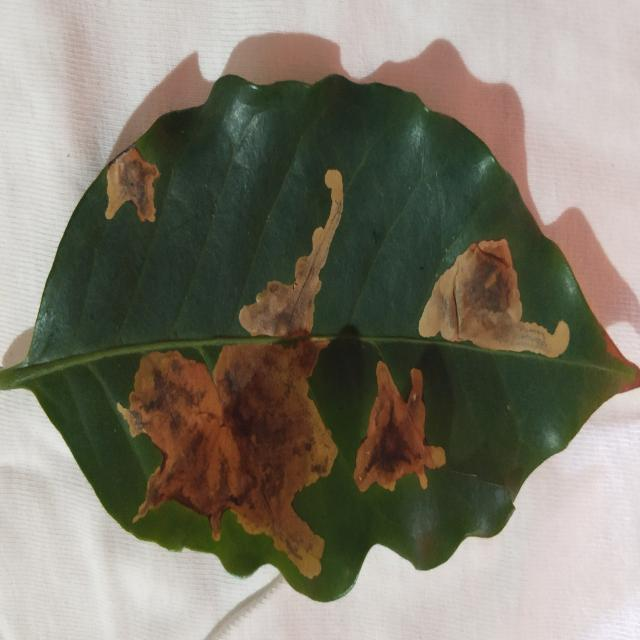Plaga-Minador: (0, 76, 640, 605)
